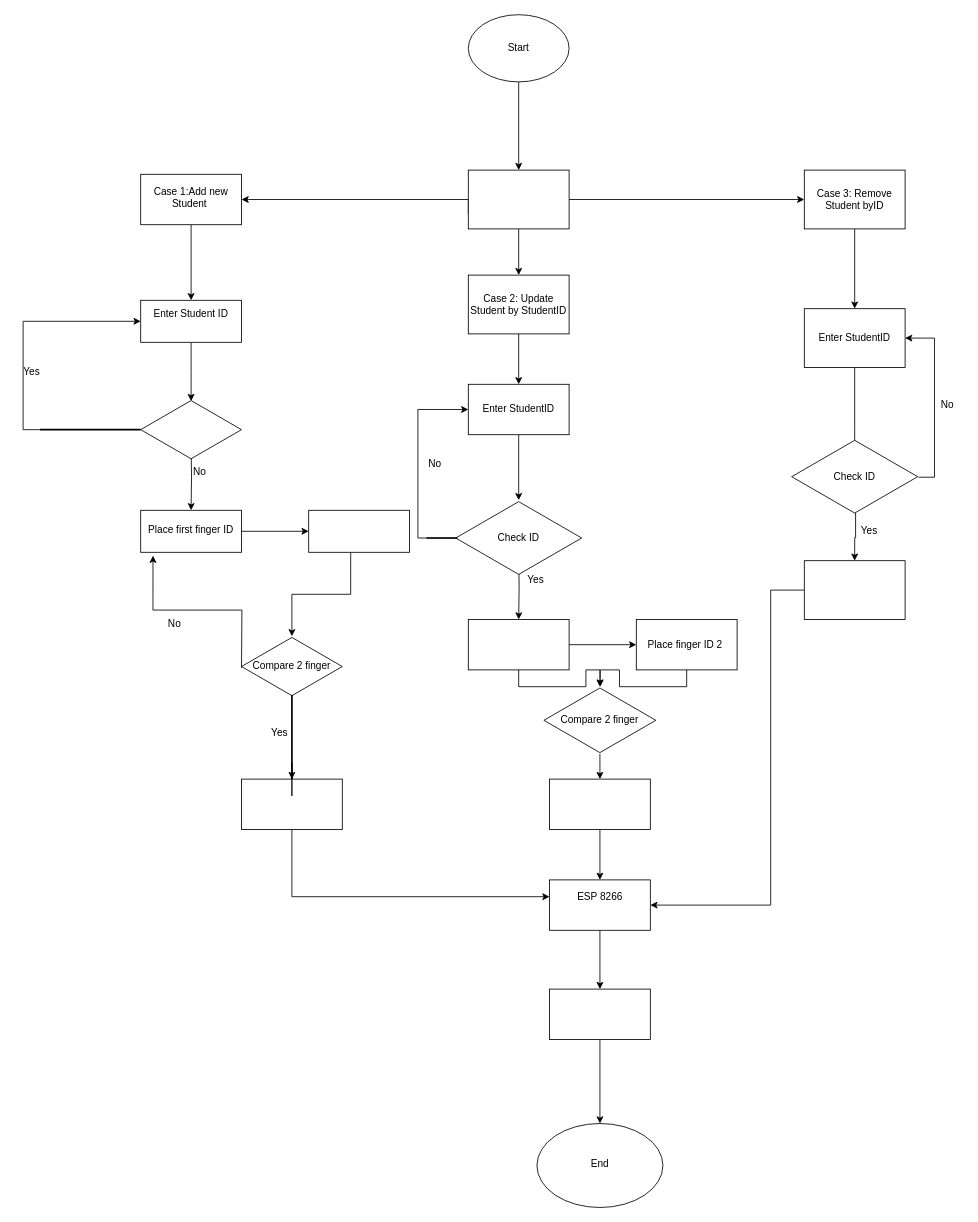
This 978x1222 diagram has some shape labels left out. Here are the shapes that lost their labels. From the top down, the centre of each, then its label:
point (518, 199): Switch Case
point (191, 429): Check duplicate
point (359, 530): Place second finger ID
point (854, 590): Remove Student
point (518, 644): Place finger ID
point (291, 804): New finger
point (599, 804): Update
point (599, 1014): Store in Google Sheet
